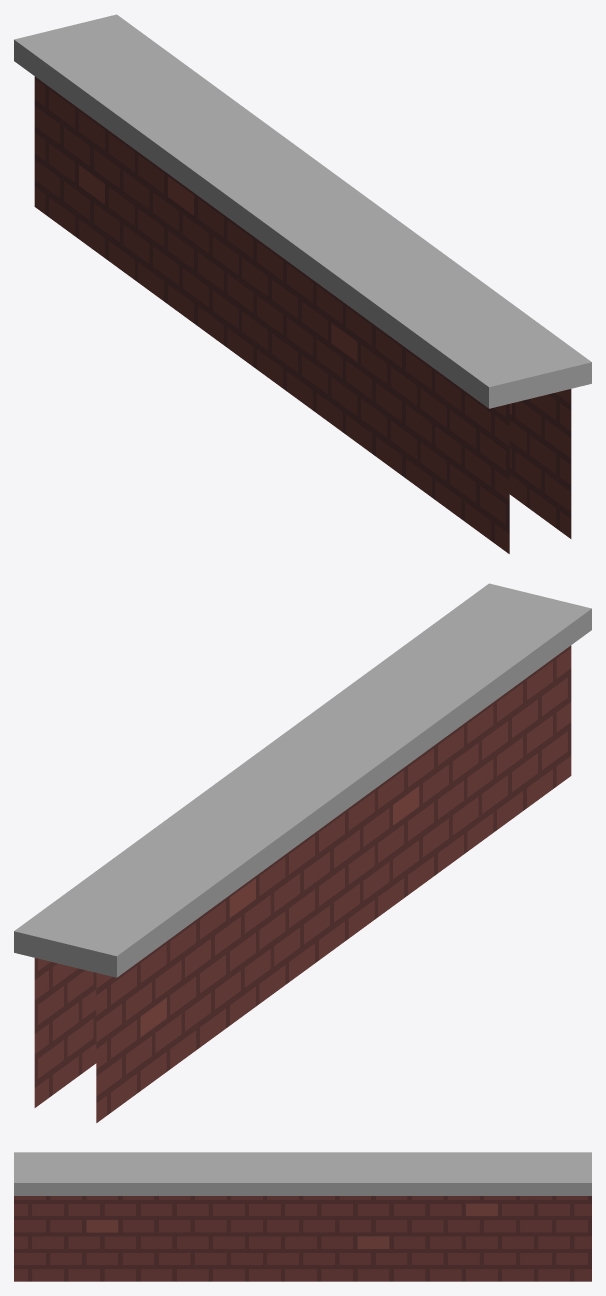
Rendered from SM_wallAttic_02.glb.
3 renders of one model, top to bottom at view 1: azimuth 30°, elevation 25°; view 2: azimuth 150°, elevation 25°; view 3: azimuth 270°, elevation 25°, orthographic. The views are drawn at different scales.
Visible parts, largest first — view 1: SM_wallAttic_02; view 2: SM_wallAttic_02; view 3: SM_wallAttic_02.
Part boxes in pixels (left/top/right/bottom): SM_wallAttic_02: left=14, top=14, right=591, bottom=553; SM_wallAttic_02: left=14, top=583, right=591, bottom=1122; SM_wallAttic_02: left=14, top=1152, right=591, bottom=1281.
Size of the model in its own units: 0.5 by 0.8 by 4.
2 materials, 2 textured.
